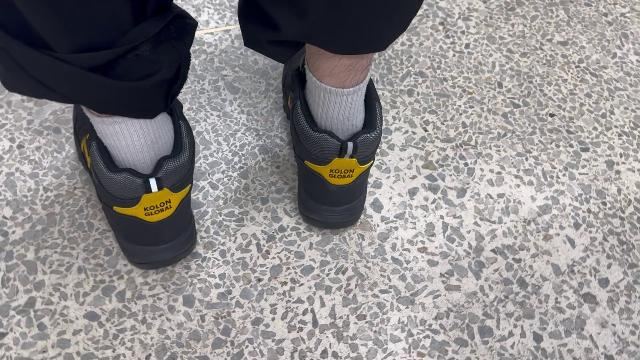shoe_worn: (59, 91, 215, 263), (265, 43, 398, 236)
